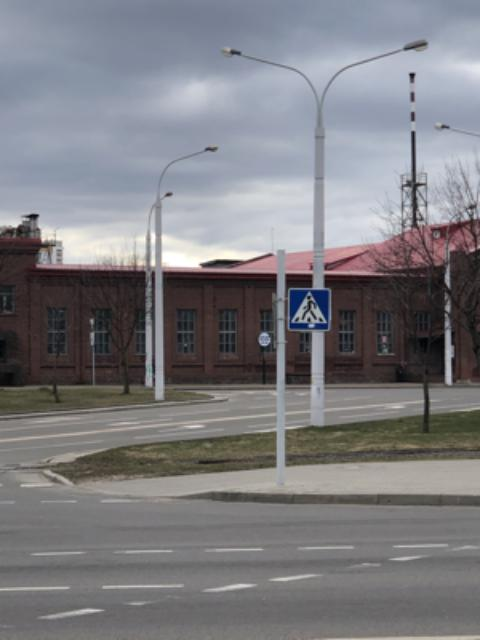crosswalk-sign: (286, 286, 332, 332)
